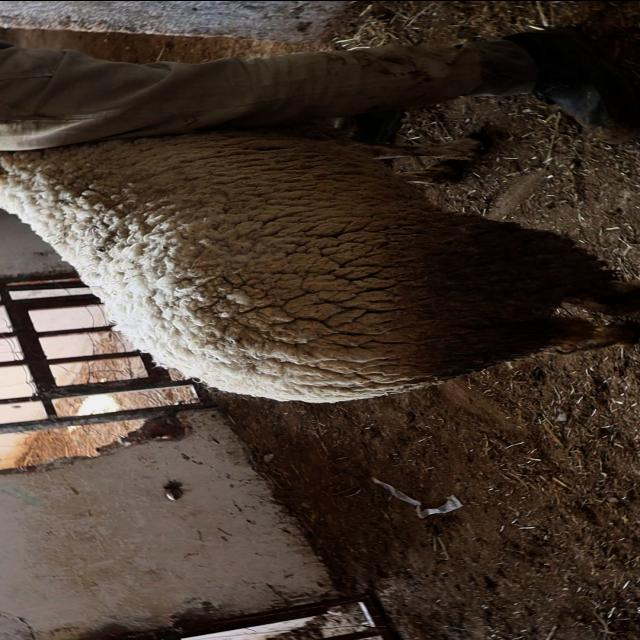Score_5: (0, 124, 639, 402)
